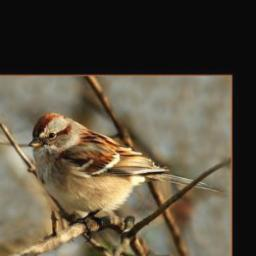Sparrow: (29, 112, 225, 245)
